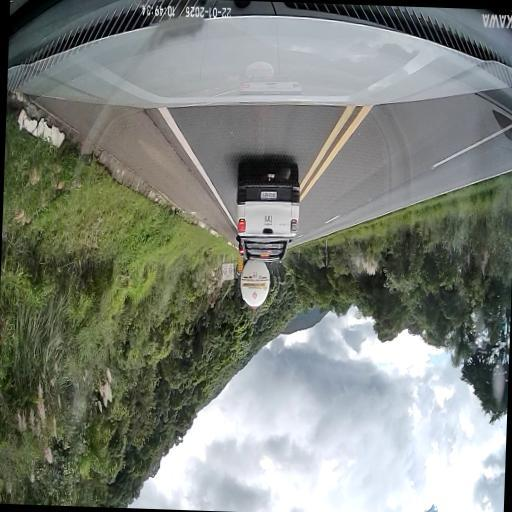R-19: (222, 266, 226, 274), (228, 266, 232, 272)
